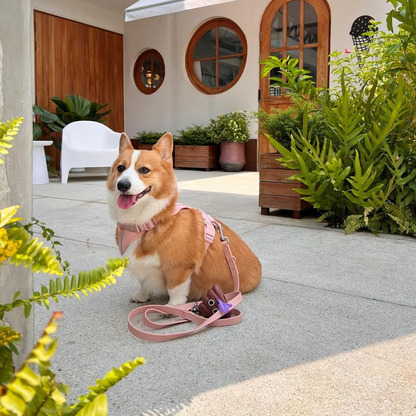Corgi: (100, 125, 283, 336)
